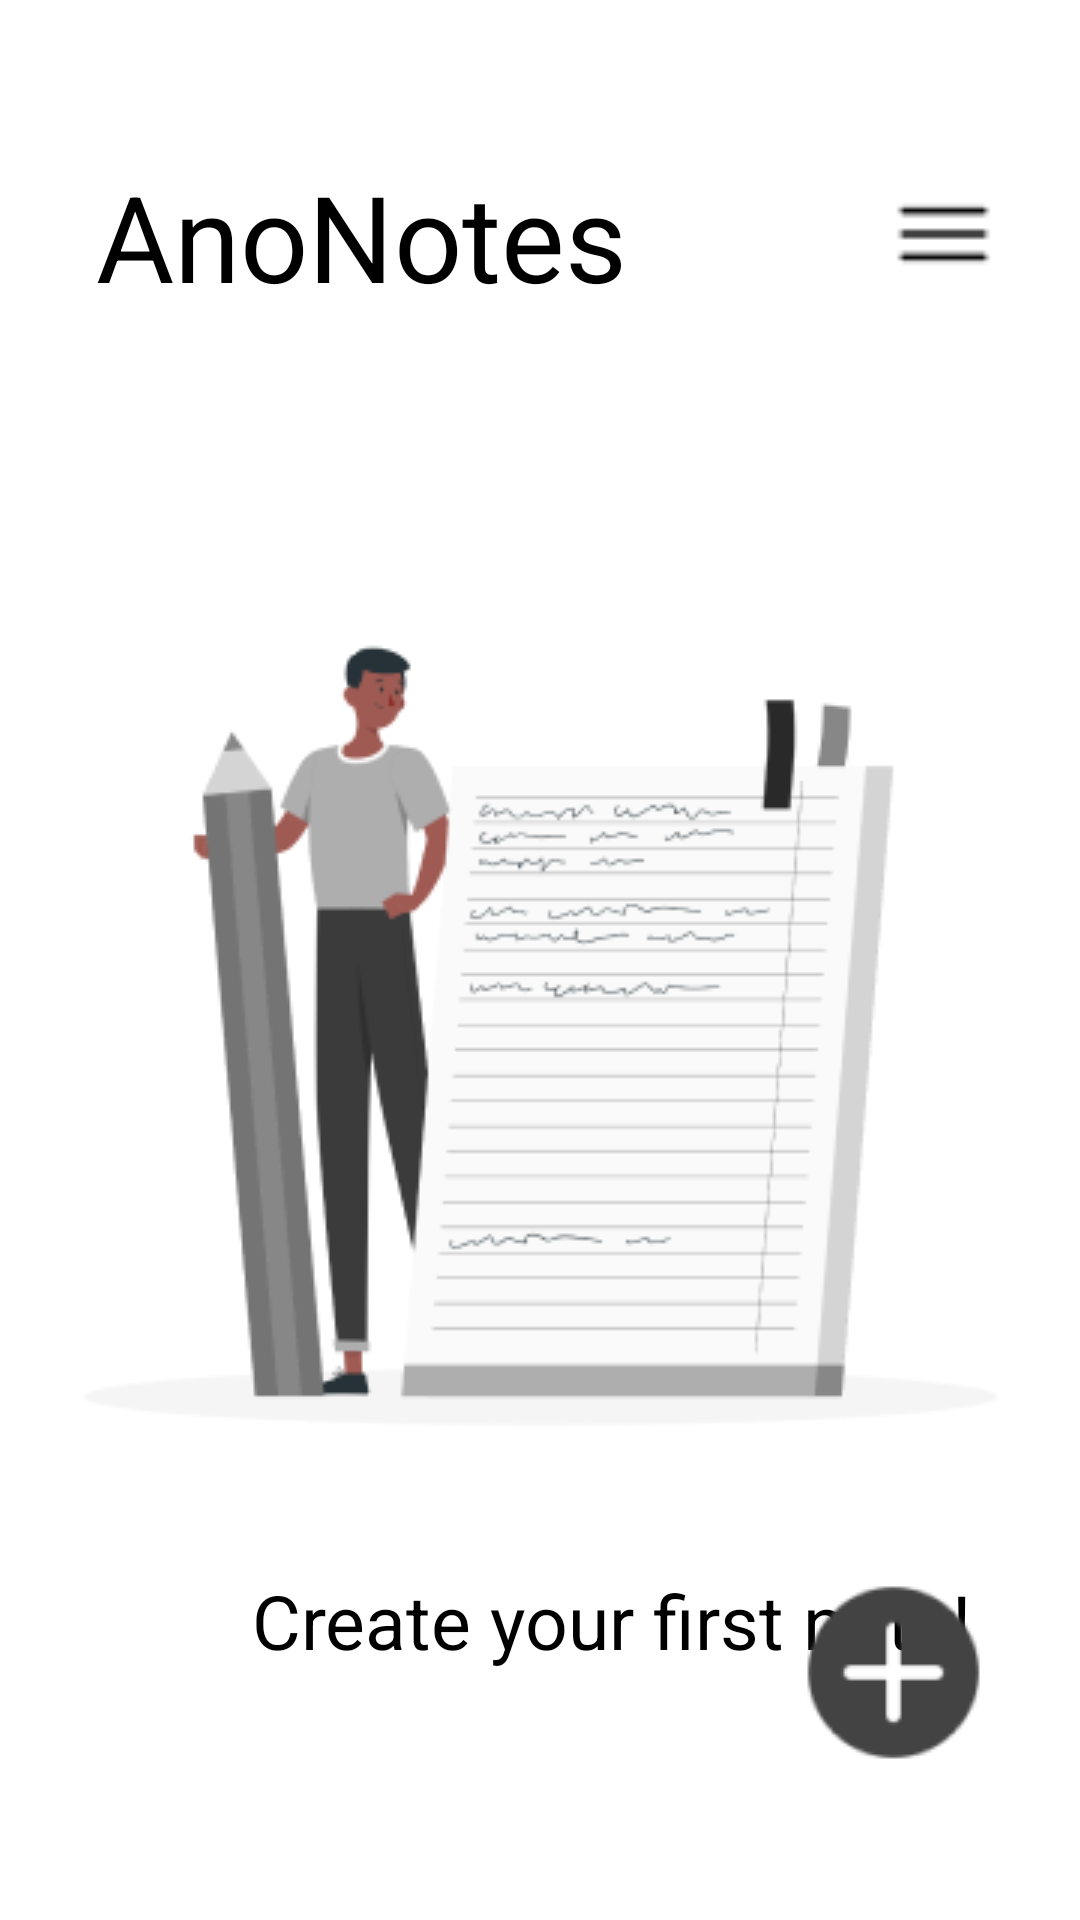

Where to tap for icons on this 1080px x 1920px app screen, as (x,y):
plus: (893,1672)
